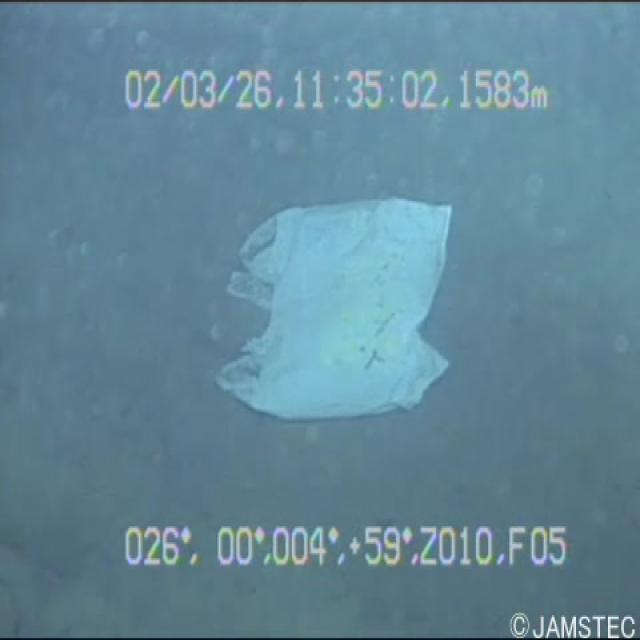plastic: (195, 174, 460, 452)
